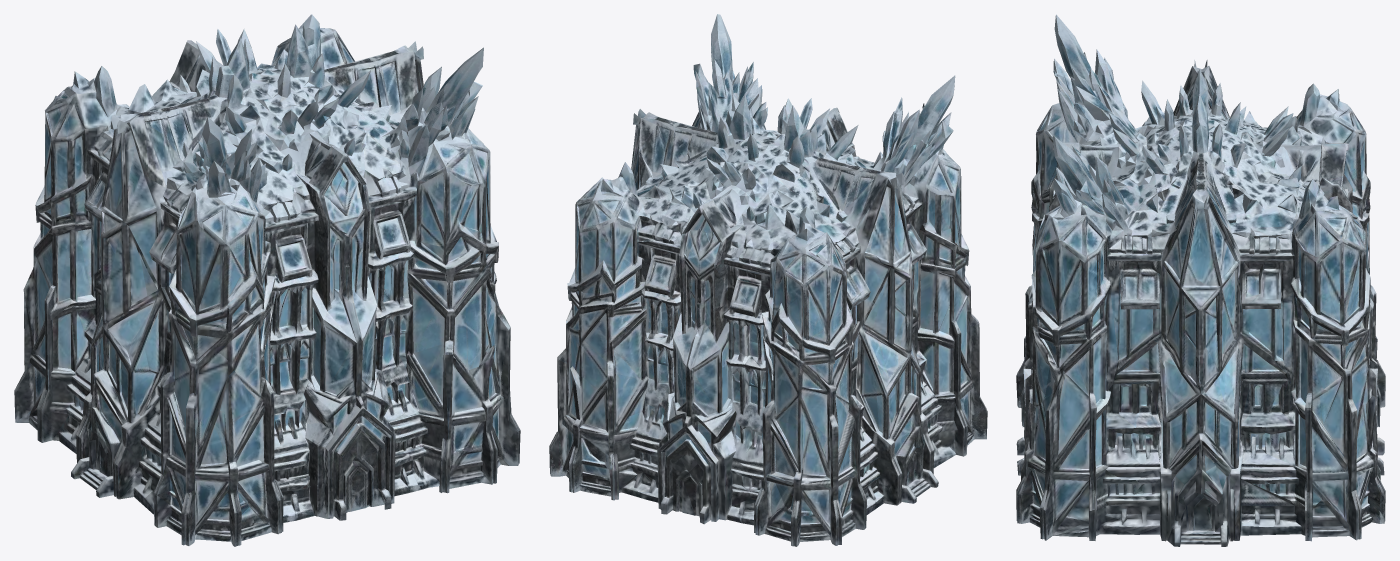
File: mygeetoblock.glb
3 views of the same model, side by side, from view 1: azimuth 30°, elevation 25°; view 2: azimuth 150°, elevation 25°; view 3: azimuth 270°, elevation 25° (orthographic). The views are drawn at different scales.
Parts seen in each view (by area): view 1: mygeetoblock-centred; view 2: mygeetoblock-centred; view 3: mygeetoblock-centred.
Boxes of the visible parts, x1,y1,x2,y2 form: mygeetoblock-centred: [14, 14, 520, 546]; mygeetoblock-centred: [549, 14, 987, 546]; mygeetoblock-centred: [1016, 14, 1385, 546].
Size of the model in its own units: 36.4 by 40 by 34.33.
Materials: 1 (1 with a texture image).
